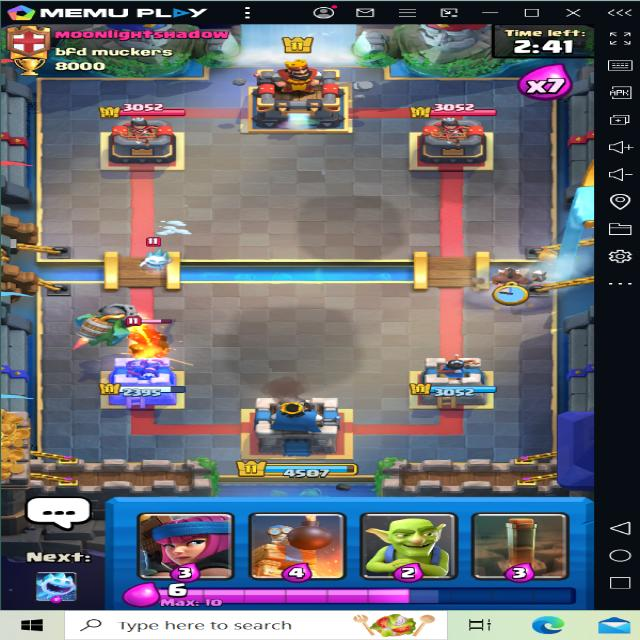Icespirit: (129, 238, 187, 275)
